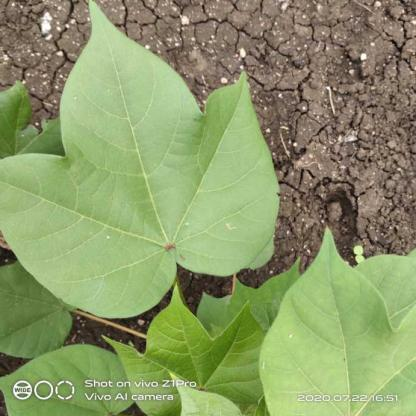cotton: (14, 6, 292, 313), (296, 201, 416, 416)
